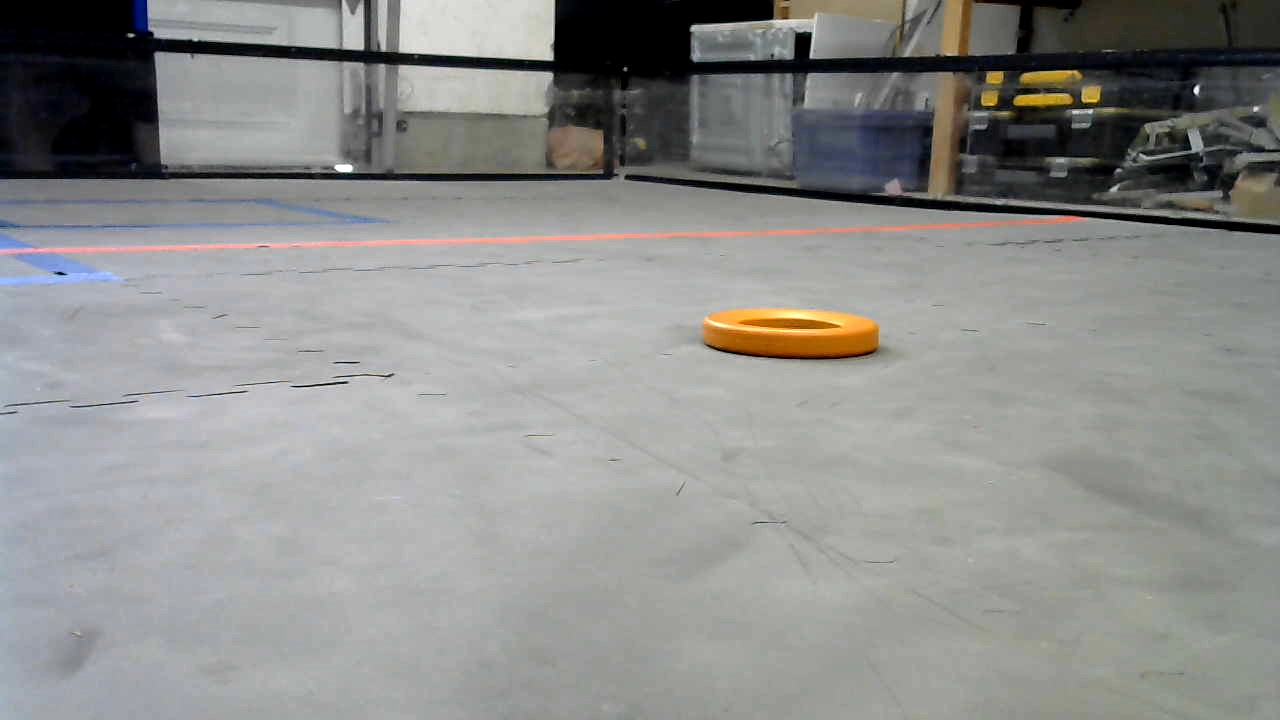OneStack: (702, 308, 880, 358)
